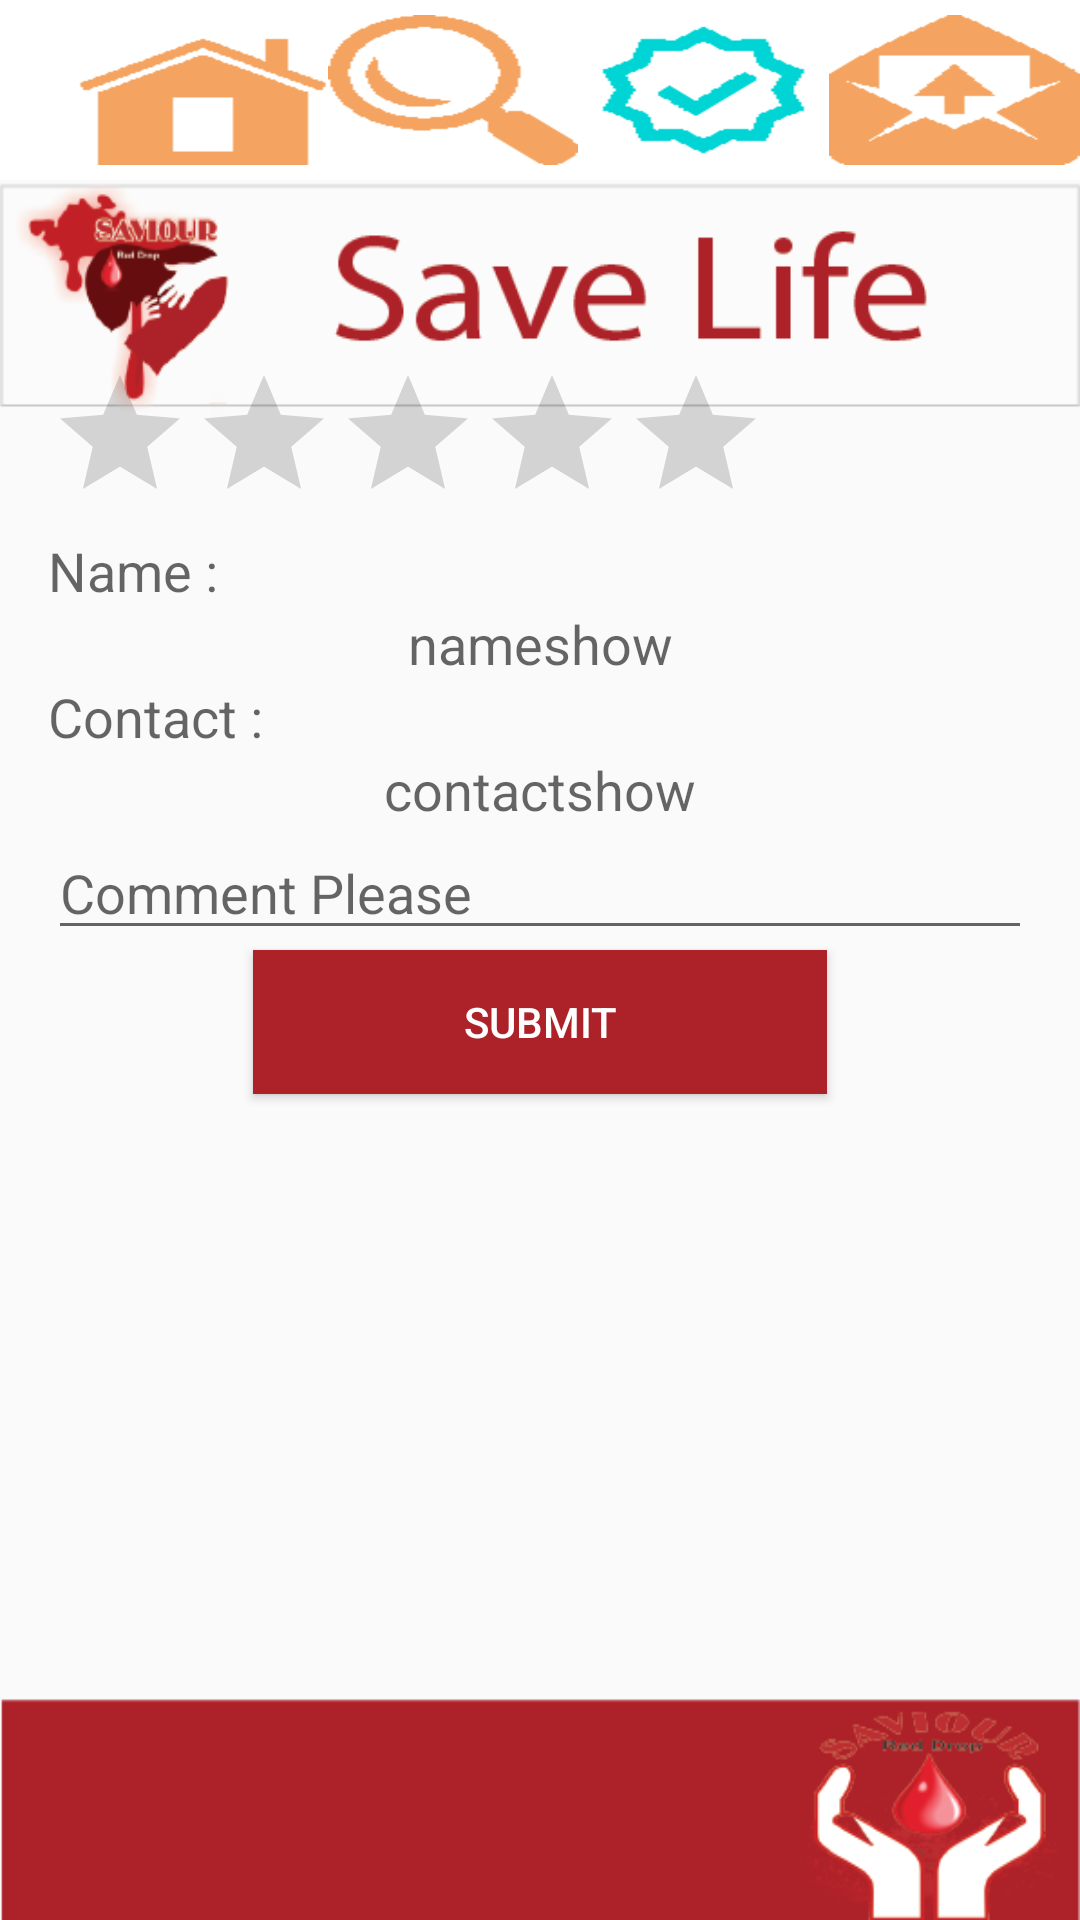

Screen size 1080*1920. Icon name, then its center in pixels as (x=x, y=y):
feedback: (x=954, y=90)
hom: (x=203, y=101)
ser: (x=453, y=90)
